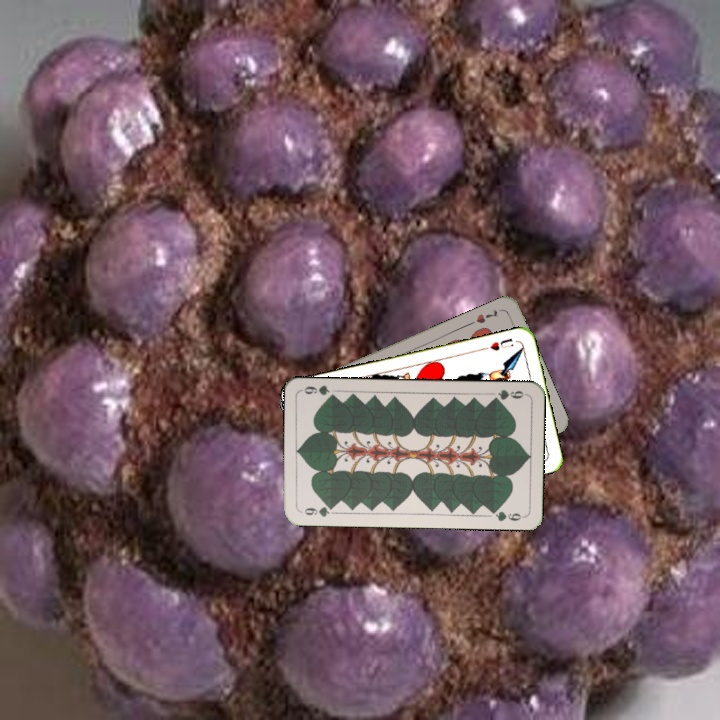G9: (488, 386, 528, 404), (300, 502, 338, 520)
H7: (472, 306, 501, 326)
HU: (479, 334, 516, 353)
